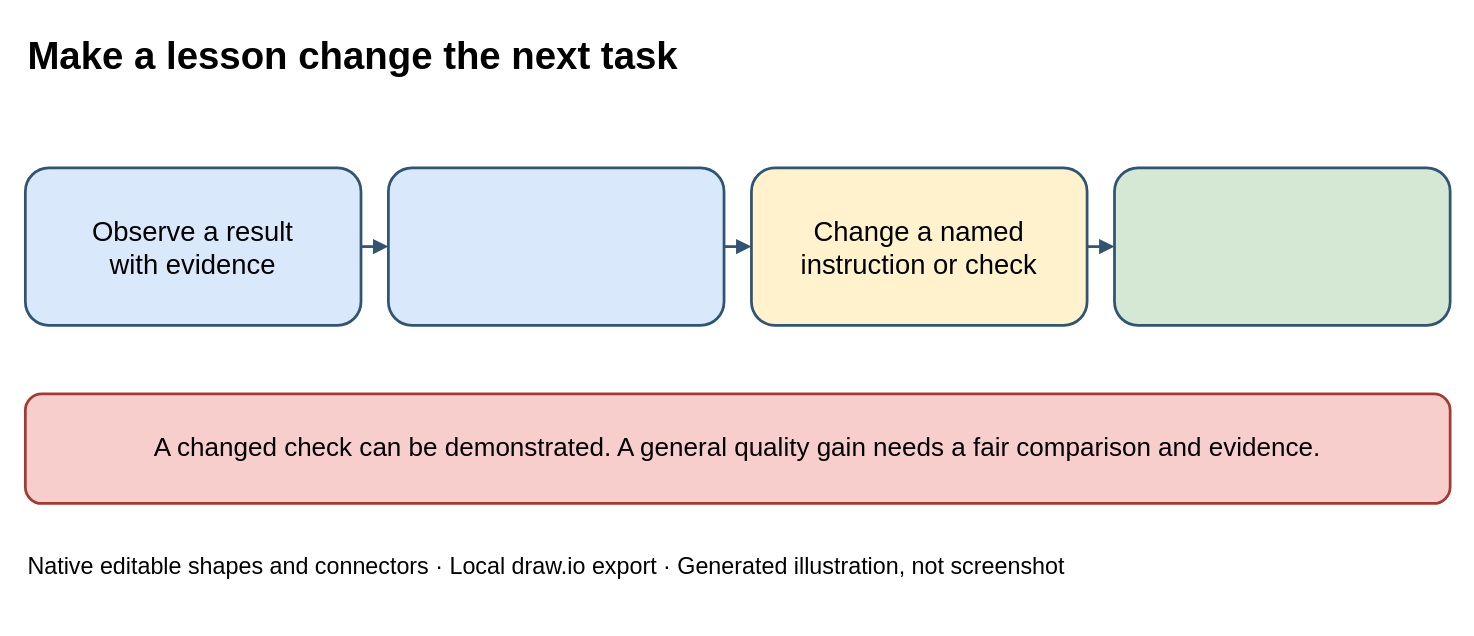
The diagram is 1474 pixels wide and 636 high, and some of its shapes have lost their labels. Each missing label, with the centre of its shape:
"Observe the next bounded task" goes at point 1281,246.
"Record a lesson and owner" goes at point 555,246.
